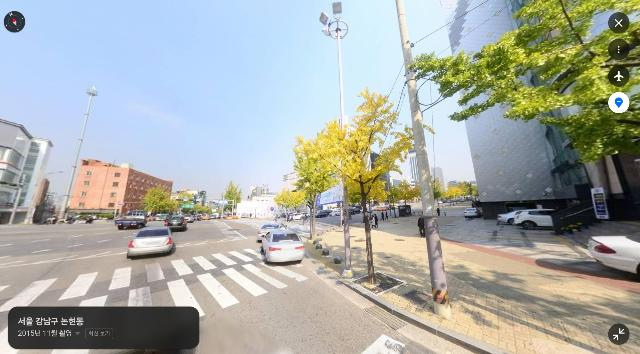ginkgo: (315, 86, 416, 286), (291, 122, 348, 242), (272, 185, 305, 219)
other: (410, 1, 640, 171), (144, 184, 178, 221), (222, 180, 241, 216)
